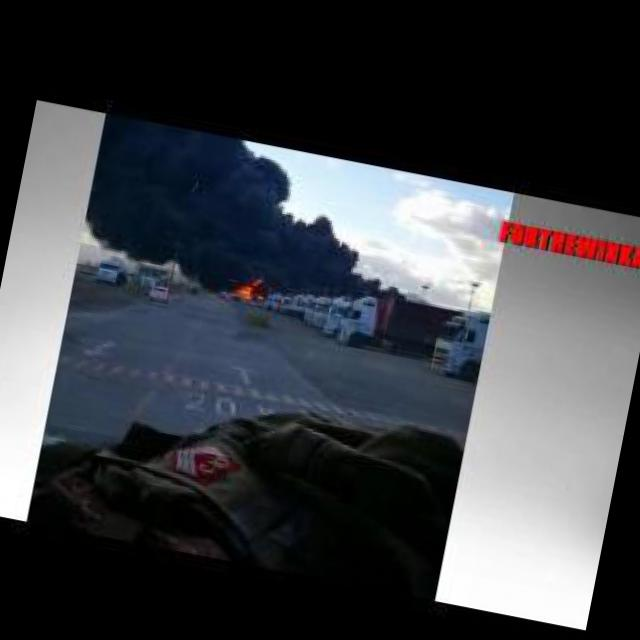fire: (234, 278, 266, 304)
smoke: (84, 116, 388, 302)
